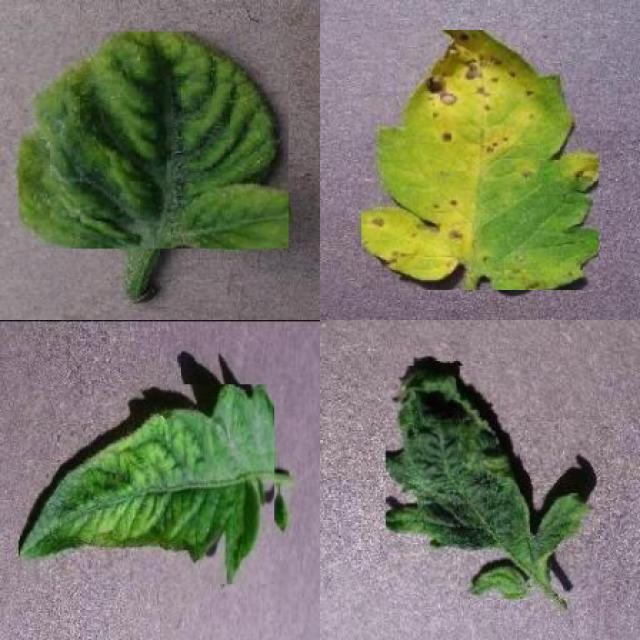Mosaic Virus: (19, 385, 274, 585), (386, 366, 598, 598)
Septoria: (362, 30, 599, 290)
Yellow Leaf Curl Virus: (18, 31, 288, 249)
